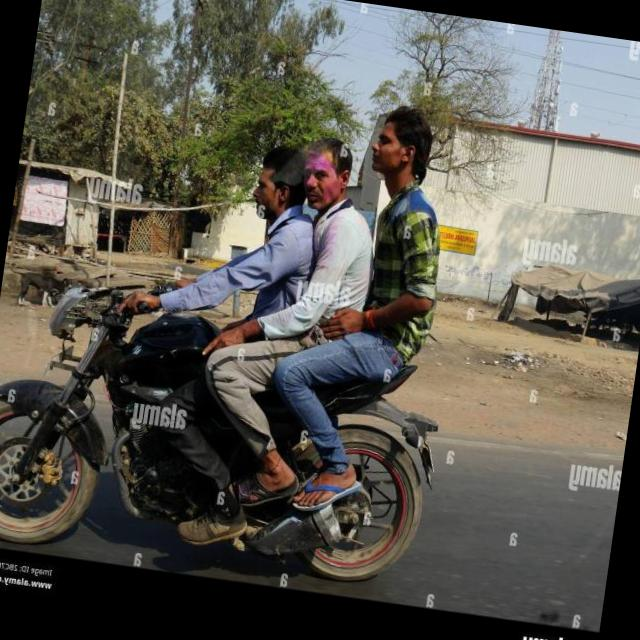No helmet: (248, 148, 309, 222)
Triple riding: (213, 90, 462, 455)
